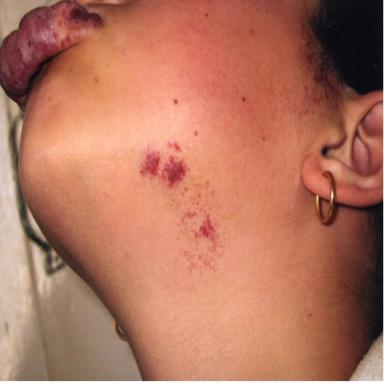Hemangiome: (163, 157, 186, 186), (140, 153, 159, 175)
